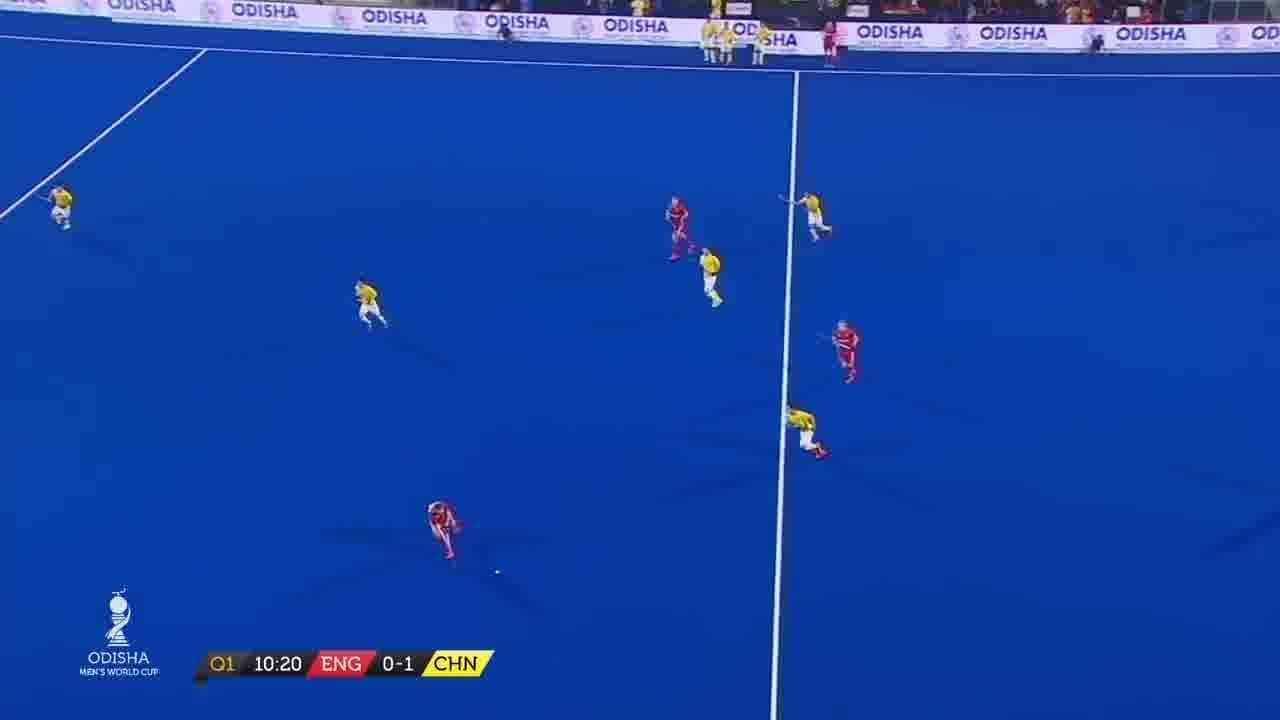ball: (491, 563, 506, 580)
